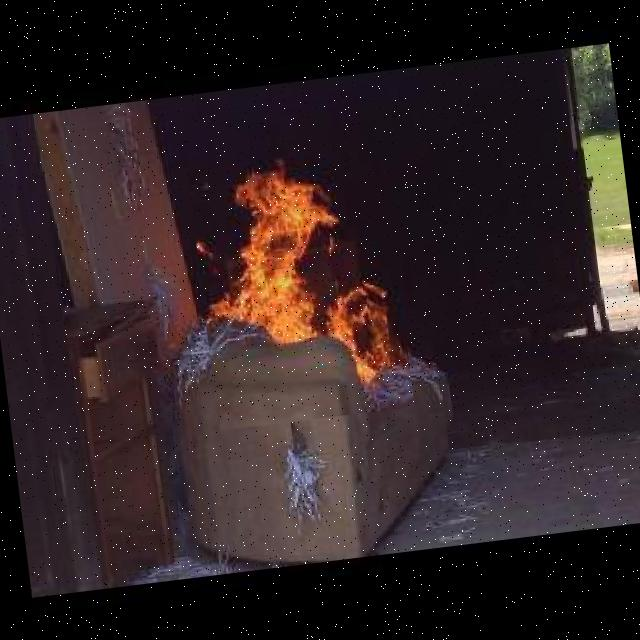fire: (186, 145, 414, 430)
